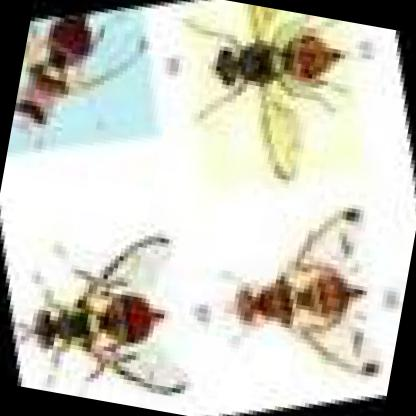fruit fly: (29, 237, 186, 394), (227, 209, 376, 370)
